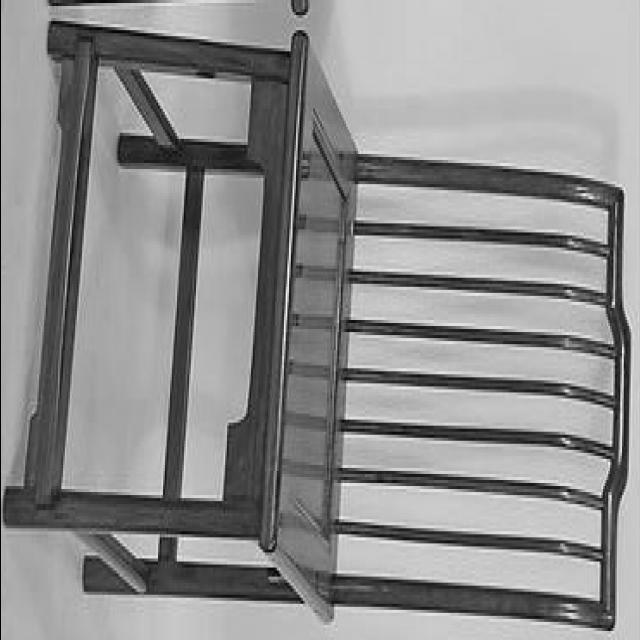chair: (2, 17, 632, 639)
